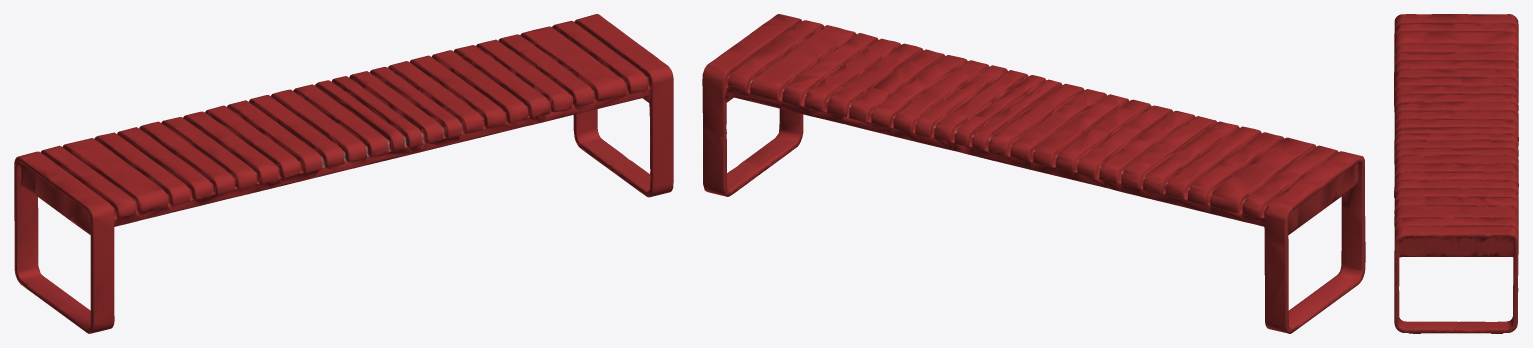
The model's file is bench2.glb.
3 renders of one model, left to right at view 1: azimuth 30°, elevation 25°; view 2: azimuth 150°, elevation 25°; view 3: azimuth 270°, elevation 25°, orthographic. The views are drawn at different scales.
Parts seen in each view (by area): view 1: mesh_node; view 2: mesh_node; view 3: mesh_node.
Part boxes in pixels (bbox=[...]): mesh_node: bbox=[14, 14, 673, 333]; mesh_node: bbox=[702, 14, 1365, 333]; mesh_node: bbox=[1394, 14, 1518, 333].
Size of the model in its own units: 1.9 by 0.4096 by 0.4547.
Materials: 1 (1 with a texture image).
